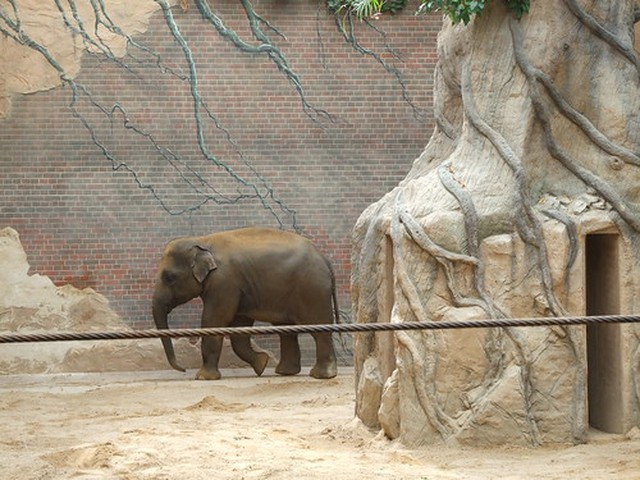Elephant: (142, 222, 345, 379)
